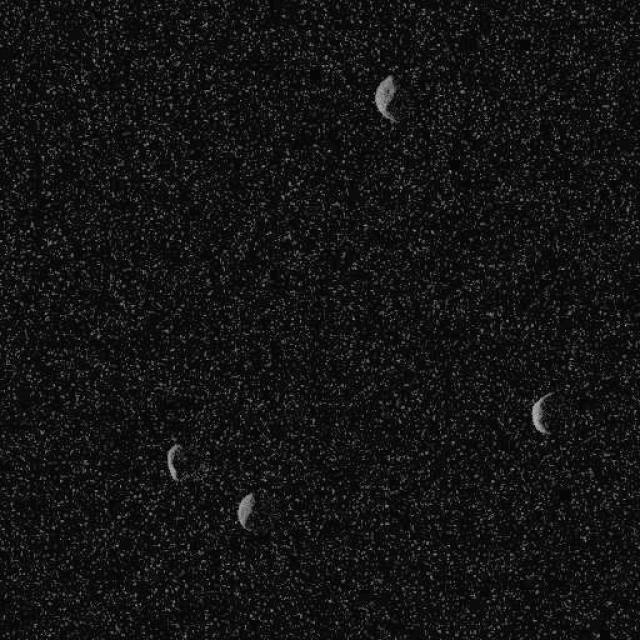D2: (372, 74, 402, 124), (530, 390, 555, 435), (235, 491, 255, 531), (165, 442, 184, 482)
